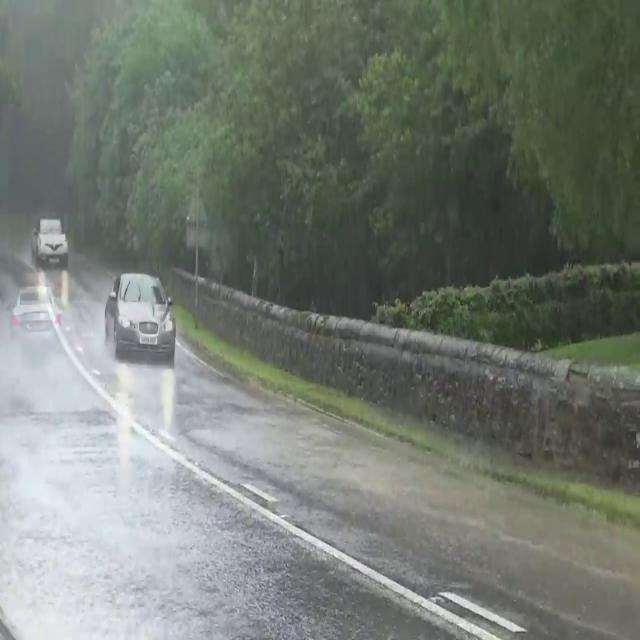license-plate-annotation: (137, 332, 164, 348)
